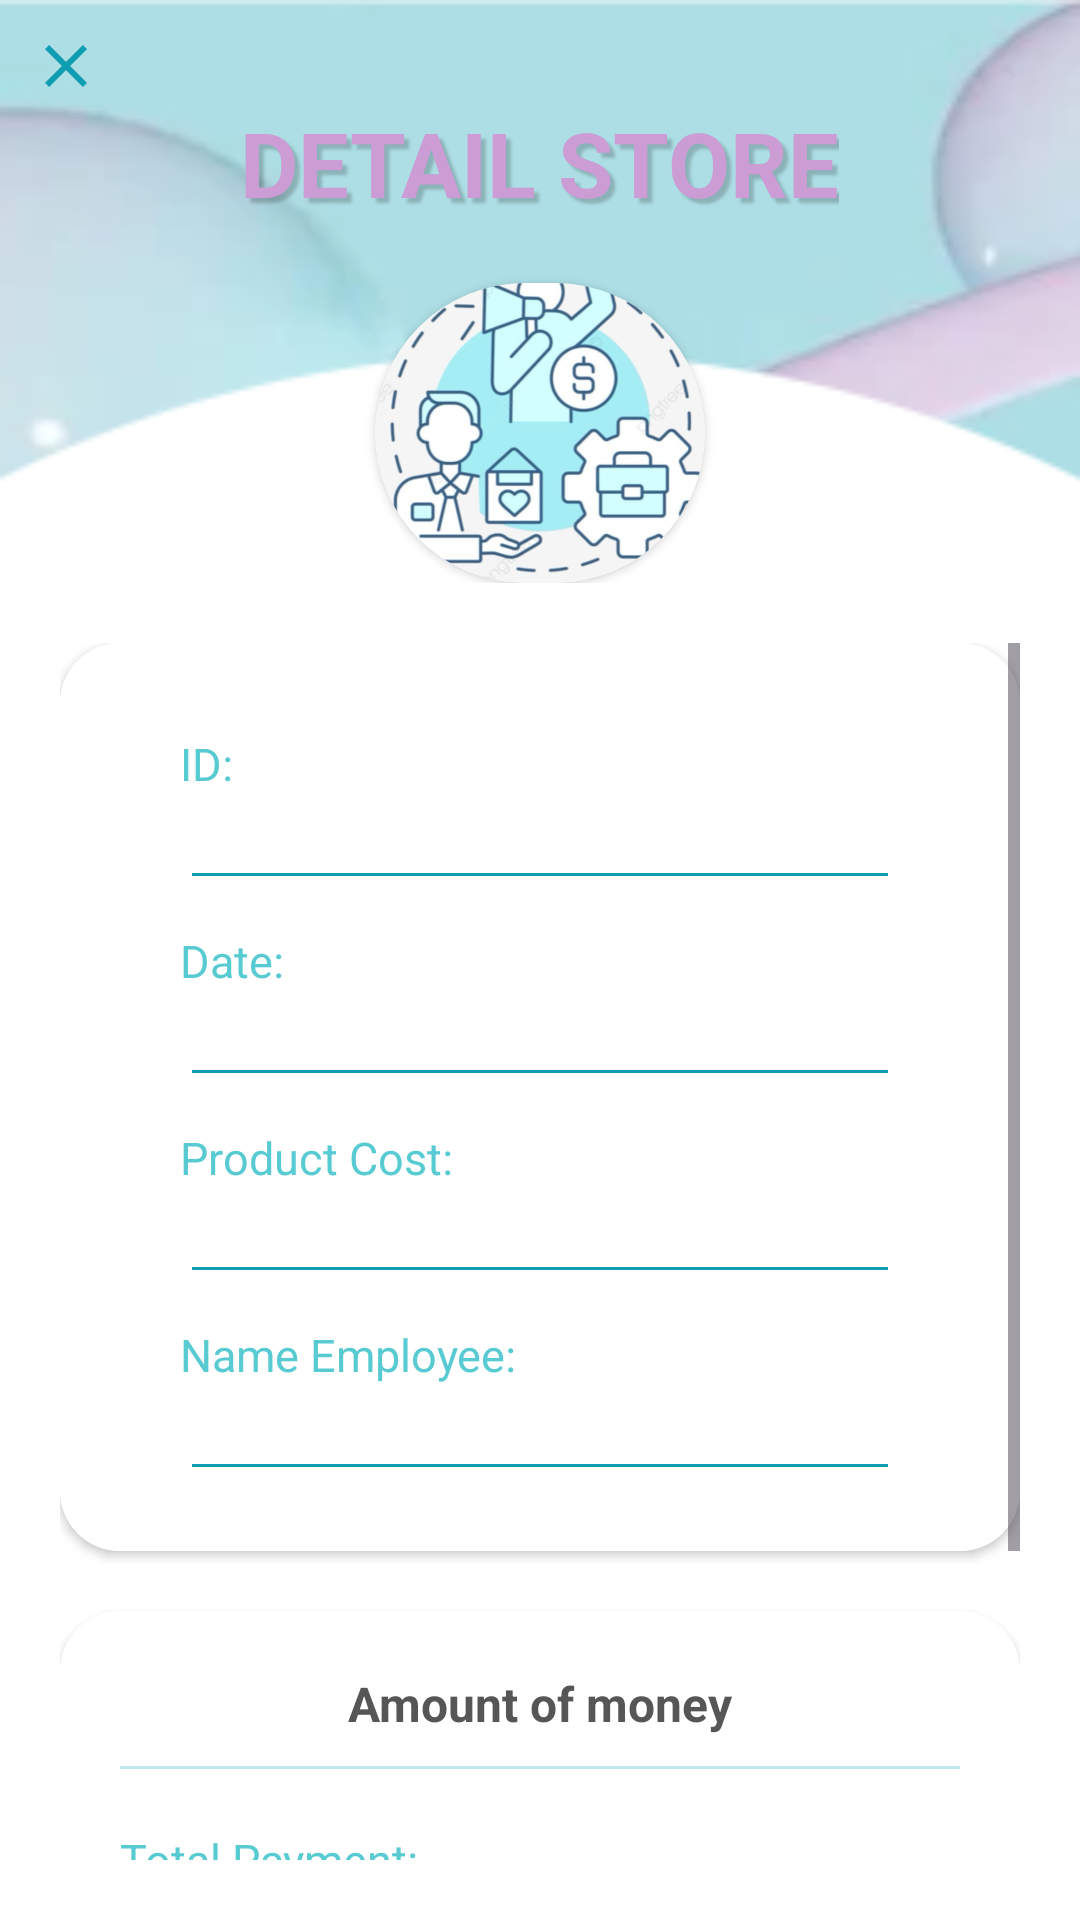

Named icons in this screenshot (1080w x 1920h) and their bounding boxes, (x1, y1, x2, y2):
close: (45, 45, 87, 87)
